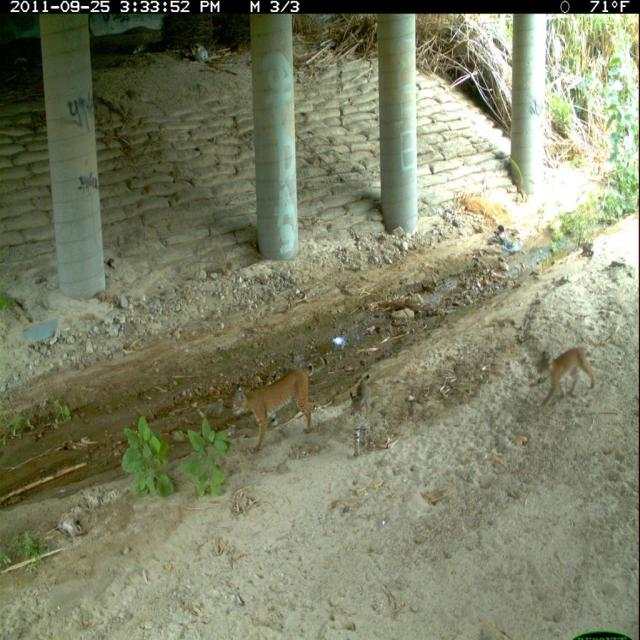bobcat: (228, 360, 320, 457), (533, 340, 601, 415), (347, 370, 376, 464)
